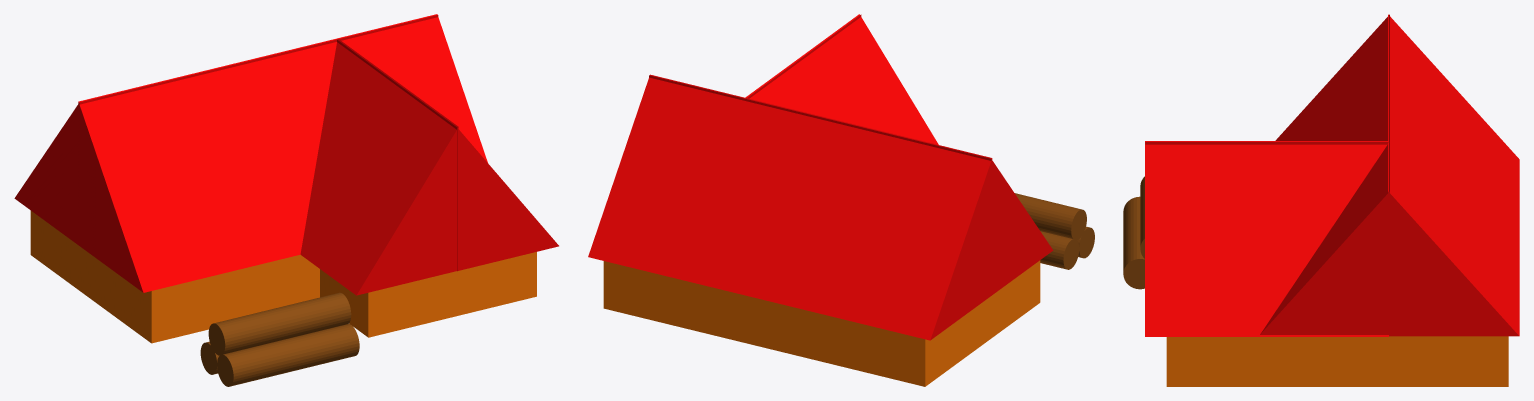
The model's file is Lumberjack.fbx.
3 views of the same model, side by side, from view 1: azimuth 30°, elevation 25°; view 2: azimuth 150°, elevation 25°; view 3: azimuth 270°, elevation 25° (orthographic). The views are drawn at different scales.
Parts seen in each view (by area): view 1: Cube.002, Cube.004, Cube.001, Cylinder.002, Cube.003, Cube.008; view 2: Cube.008, Cube.001, Cube.004, Cube.002, Cylinder.002; view 3: Cube.003, Cube.008, Cube.002, Cube.001, Cylinder.002, Cube.004.
Boxes of the visible parts, bbox=[...] form: Cube.002: bbox=[78, 14, 487, 292]; Cube.004: bbox=[300, 39, 458, 295]; Cube.001: bbox=[30, 210, 536, 343]; Cylinder.002: bbox=[200, 292, 359, 386]; Cube.003: bbox=[337, 40, 558, 271]; Cube.008: bbox=[14, 15, 438, 245]; Cube.008: bbox=[588, 74, 992, 340]; Cube.001: bbox=[603, 260, 1040, 386]; Cube.004: bbox=[744, 14, 938, 144]; Cube.002: bbox=[649, 75, 1053, 295]; Cylinder.002: bbox=[1015, 193, 1094, 269]; Cube.003: bbox=[1145, 141, 1388, 336]; Cube.008: bbox=[1388, 14, 1519, 336]; Cube.002: bbox=[1260, 14, 1389, 336]; Cube.001: bbox=[1166, 336, 1508, 386]; Cylinder.002: bbox=[1123, 176, 1144, 289]; Cube.004: bbox=[1145, 142, 1389, 144].
Size of the model in its own units: 427 by 226 by 402.
